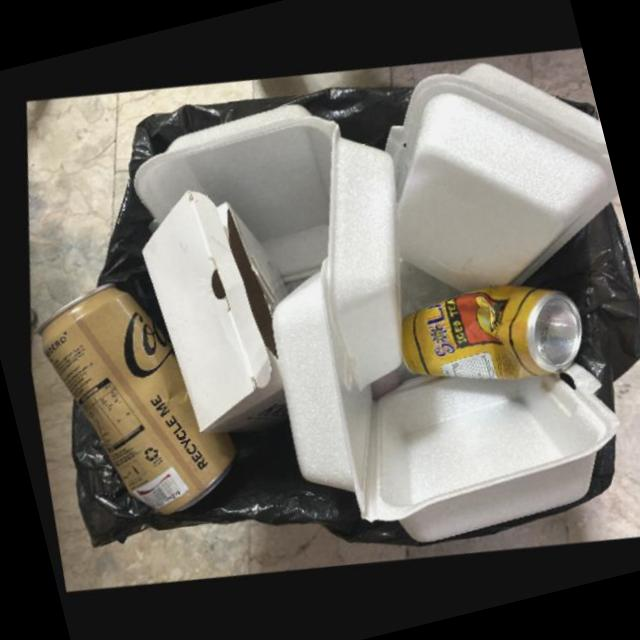carton: (133, 192, 284, 436)
nhom: (32, 287, 232, 516), (395, 286, 577, 380)
xop: (267, 257, 616, 544), (376, 65, 617, 294), (123, 106, 328, 286), (320, 129, 397, 393)
